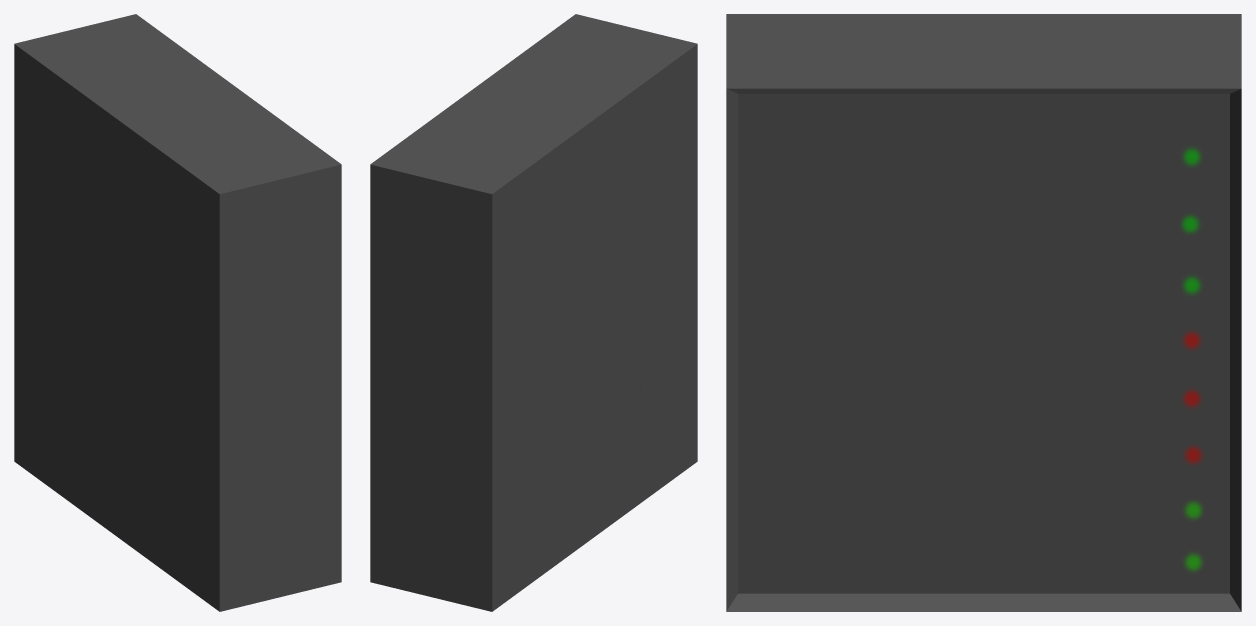
The model's file is serverRack.fbx.
3 renders of one model, left to right at view 1: azimuth 30°, elevation 25°; view 2: azimuth 150°, elevation 25°; view 3: azimuth 270°, elevation 25°, orthographic. The views are drawn at different scales.
Visible parts, largest first — view 1: Cube; view 2: Cube; view 3: Cube.
Boxes of the visible parts, left/top/right/bottom form: Cube: left=14, top=14, right=341, bottom=611; Cube: left=370, top=14, right=697, bottom=611; Cube: left=726, top=14, right=1241, bottom=611.
Bounding box in the file's own units: 170 × 555 × 496.
1 material, 1 textured.
